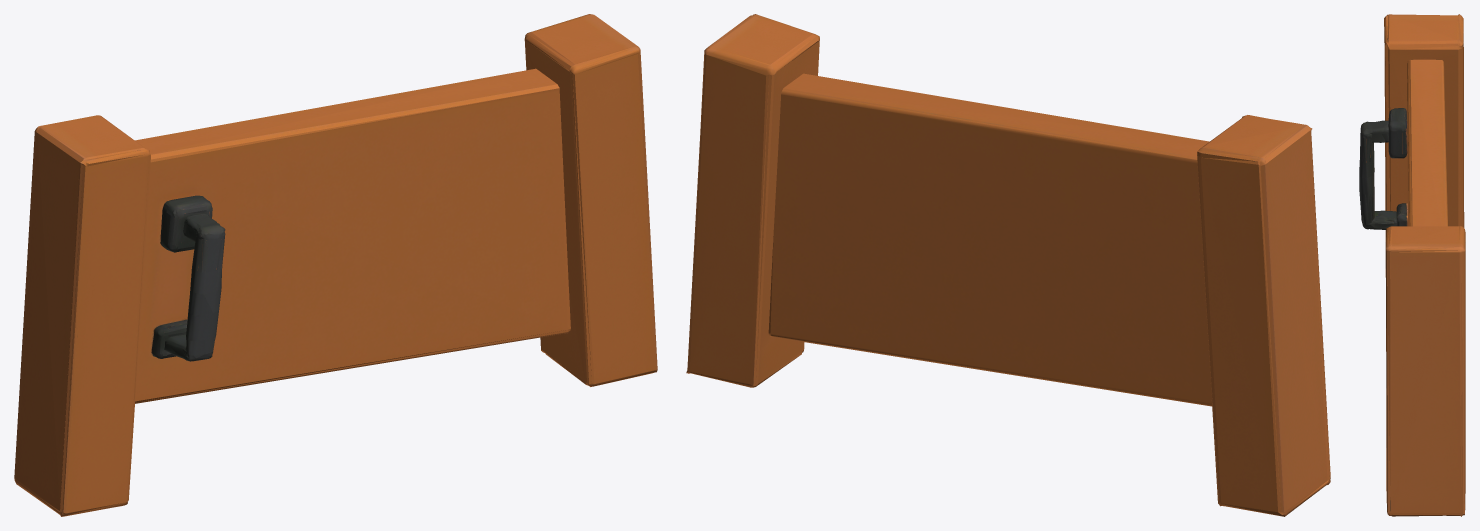
The model's file is gate.glb.
3 views of the same model, side by side, from view 1: azimuth 30°, elevation 25°; view 2: azimuth 150°, elevation 25°; view 3: azimuth 270°, elevation 25° (orthographic). The views are drawn at different scales.
Size of the model in its own units: 1 by 0.5742 by 0.1948.
1 material, 1 textured.
